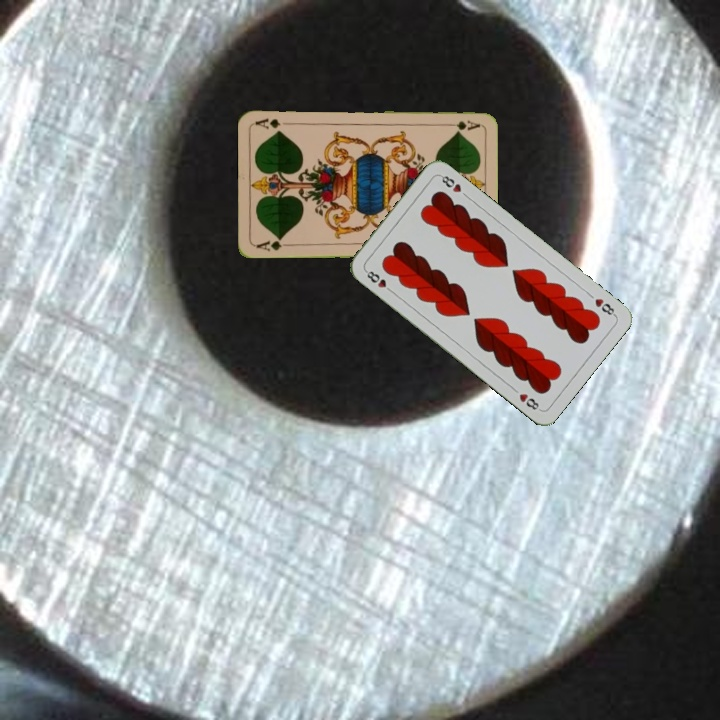GA: (253, 234, 293, 254), (441, 116, 481, 132)
H8: (361, 266, 396, 295), (591, 294, 618, 319)
